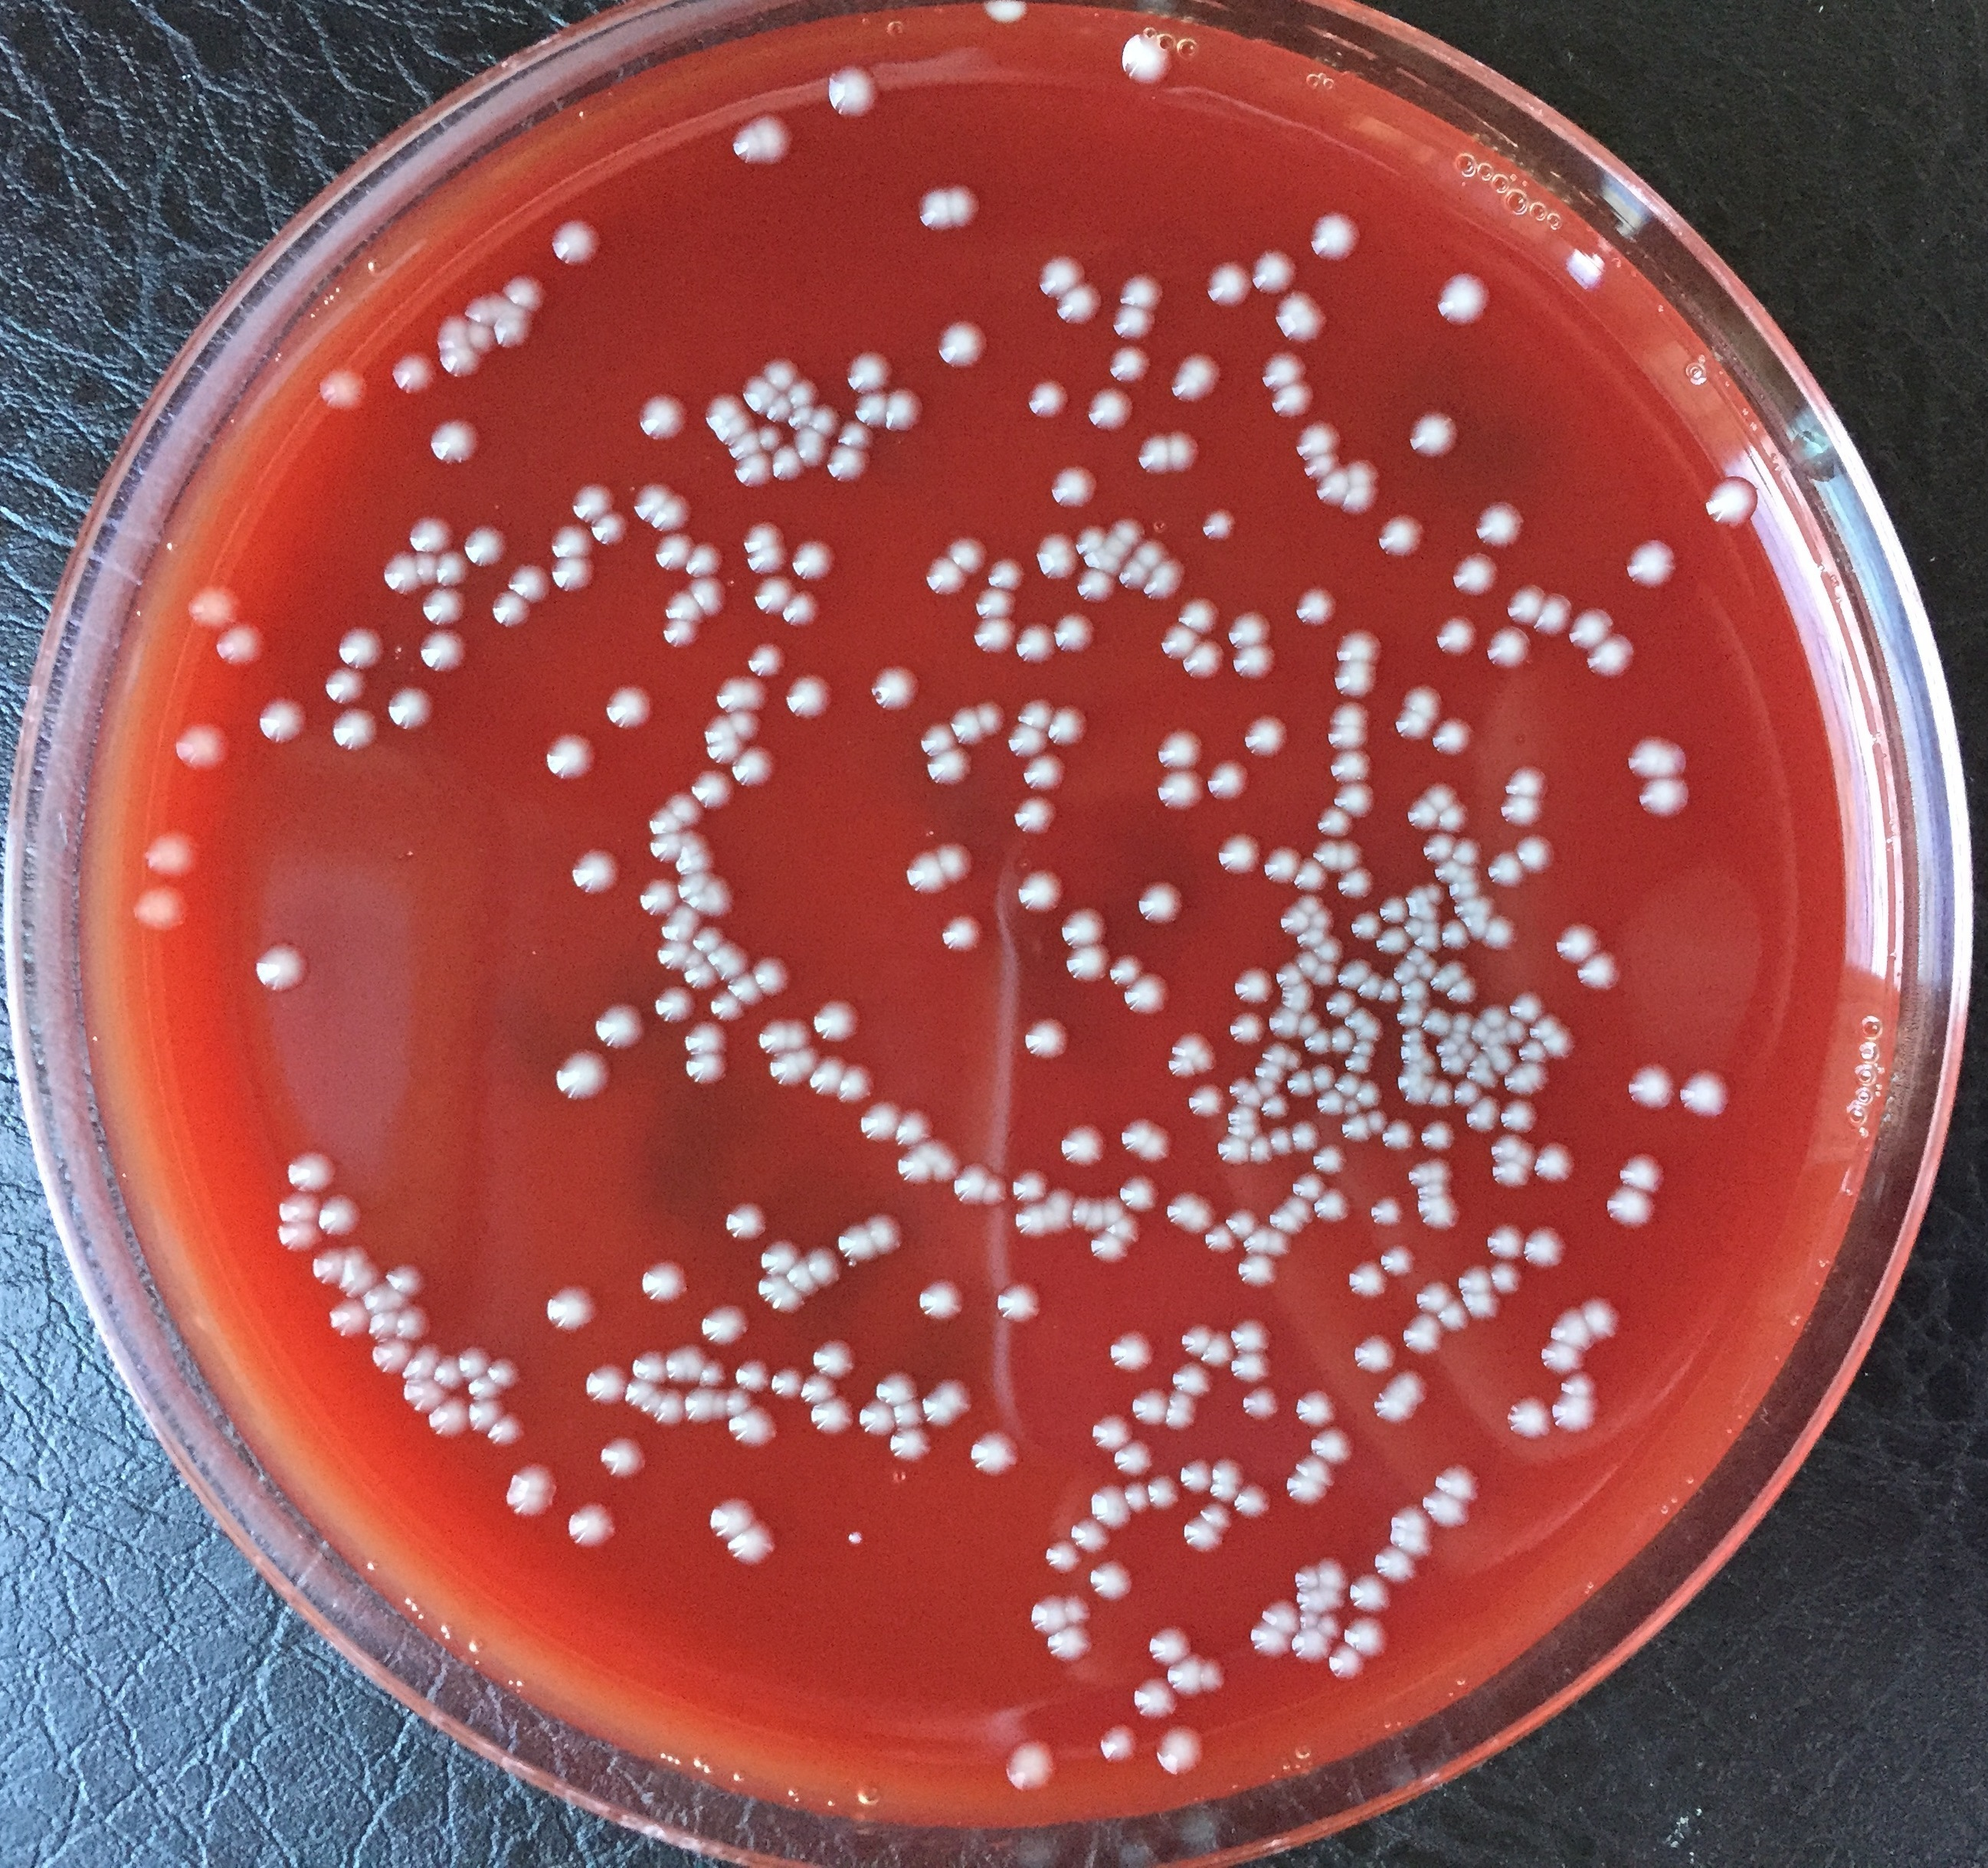sp13: (1033, 527, 1126, 579), (727, 109, 803, 169), (248, 936, 314, 997), (1008, 1166, 1061, 1243), (390, 348, 486, 390), (998, 1735, 1061, 1798), (1700, 471, 1765, 532), (309, 1243, 379, 1299), (499, 1459, 560, 1522), (1430, 270, 1495, 330), (541, 1278, 604, 1336), (1149, 1722, 1214, 1778), (184, 579, 249, 636), (1370, 1369, 1437, 1424), (892, 1136, 966, 1185), (551, 1045, 613, 1103), (1307, 205, 1365, 265), (169, 716, 228, 774), (1120, 28, 1177, 90), (585, 1359, 655, 1408), (140, 827, 204, 881), (1271, 288, 1333, 342), (1621, 537, 1682, 592), (1675, 1069, 1737, 1124), (1163, 355, 1229, 404), (1624, 732, 1691, 781), (425, 416, 485, 471), (824, 63, 880, 119), (595, 999, 650, 1057), (1466, 1017, 1519, 1076), (253, 692, 313, 744), (132, 881, 193, 932), (634, 390, 690, 444), (1199, 258, 1257, 311), (722, 1515, 780, 1568), (695, 1299, 755, 1350), (713, 669, 776, 716), (1161, 1187, 1219, 1238), (546, 218, 606, 267), (1134, 880, 1194, 929), (1184, 1083, 1263, 1120), (920, 1375, 973, 1429), (543, 729, 597, 781), (1050, 279, 1106, 330), (725, 1401, 782, 1452), (1126, 1385, 1199, 1424), (1249, 246, 1303, 297), (1015, 867, 1070, 918), (753, 1269, 808, 1320), (871, 662, 926, 713), (383, 683, 437, 734), (1502, 1392, 1558, 1441), (562, 1499, 618, 1548), (214, 620, 270, 669), (1045, 463, 1103, 511), (1581, 630, 1639, 678), (414, 625, 472, 672), (1115, 1118, 1175, 1164), (938, 318, 990, 369), (639, 1255, 690, 1308), (811, 995, 864, 1046), (569, 844, 622, 895), (785, 672, 836, 725), (462, 521, 513, 574), (337, 620, 388, 672), (1408, 409, 1463, 458), (1375, 511, 1430, 560), (1637, 774, 1691, 823), (915, 1273, 966, 1324), (741, 376, 792, 427), (1626, 1059, 1675, 1111), (1528, 1015, 1581, 1064), (1603, 1185, 1658, 1232), (327, 706, 381, 753), (1036, 251, 1087, 300), (1085, 384, 1136, 434), (1449, 550, 1500, 599), (992, 1278, 1045, 1326), (704, 938, 757, 985), (1549, 1390, 1603, 1436), (968, 1429, 1022, 1475), (808, 1336, 862, 1382), (699, 711, 745, 765), (725, 744, 782, 788), (1261, 1598, 1324, 1636), (1020, 1015, 1070, 1064), (1475, 500, 1526, 548), (1484, 625, 1535, 672), (599, 1433, 650, 1480), (720, 1196, 771, 1243), (1055, 1122, 1108, 1167), (1106, 1327, 1159, 1373), (1166, 1034, 1222, 1076), (1567, 604, 1614, 653), (1206, 757, 1254, 806), (1533, 1141, 1581, 1190), (1547, 1304, 1596, 1352), (904, 848, 952, 897), (286, 1146, 335, 1194), (318, 1192, 367, 1239), (1238, 715, 1289, 760), (1215, 832, 1266, 878), (1614, 1150, 1665, 1196), (1342, 1615, 1393, 1661), (1289, 1564, 1340, 1610), (604, 685, 655, 730), (943, 532, 989, 583), (1047, 613, 1099, 657), (1345, 1571, 1398, 1615), (565, 479, 618, 523), (1394, 1059, 1438, 1111), (381, 546, 423, 600), (843, 351, 899, 392), (1177, 641, 1233, 681), (1041, 1620, 1098, 1661), (1554, 920, 1602, 967), (1129, 1677, 1178, 1722), (1142, 558, 1192, 602), (1156, 769, 1206, 813), (1579, 1292, 1623, 1343), (320, 662, 371, 706), (1477, 1002, 1530, 1045), (314, 367, 367, 409), (1417, 1489, 1473, 1527), (943, 183, 989, 230), (1433, 614, 1480, 660), (1431, 713, 1477, 760), (1085, 1484, 1133, 1529), (662, 1340, 708, 1387), (427, 1394, 474, 1440), (857, 1097, 903, 1145), (690, 767, 738, 813), (1259, 348, 1308, 392), (1122, 973, 1173, 1015), (1372, 1545, 1423, 1587), (1154, 623, 1206, 664), (706, 1498, 759, 1538), (789, 537, 834, 583), (1112, 300, 1159, 344), (1296, 414, 1343, 458), (880, 386, 927, 430), (1231, 964, 1279, 1008), (1010, 795, 1057, 839), (1523, 1224, 1567, 1271), (1087, 1559, 1134, 1603), (1147, 1624, 1194, 1668), (685, 574, 732, 618), (1105, 342, 1154, 384), (862, 1210, 904, 1259), (1229, 641, 1280, 681), (1486, 851, 1537, 892), (1538, 1338, 1589, 1378), (399, 1373, 450, 1413), (404, 513, 455, 553), (1502, 1060, 1556, 1097), (1335, 658, 1380, 702), (1159, 727, 1206, 769), (1329, 778, 1377, 820), (1115, 1171, 1163, 1213), (1351, 1333, 1398, 1375), (1293, 1387, 1340, 1429), (1163, 1650, 1205, 1698), (859, 1396, 906, 1438), (481, 1408, 529, 1450), (836, 1222, 878, 1269), (808, 1052, 850, 1099), (327, 1297, 374, 1340), (1333, 627, 1382, 667), (1064, 945, 1113, 985), (546, 521, 595, 562), (397, 1343, 448, 1382), (1057, 908, 1110, 945), (1505, 585, 1549, 629), (1293, 585, 1336, 629), (1514, 832, 1558, 876), (1047, 702, 1092, 744), (1089, 1412, 1134, 1454), (811, 1394, 857, 1436), (933, 841, 978, 883), (940, 911, 985, 953), (973, 611, 1015, 657), (1270, 379, 1317, 420), (1435, 1461, 1482, 1501), (889, 1422, 936, 1462), (1020, 753, 1070, 792), (1068, 1515, 1117, 1554), (783, 1255, 822, 1304), (550, 553, 599, 592), (1226, 611, 1277, 648), (1027, 379, 1071, 421), (1577, 950, 1621, 992), (1486, 1220, 1530, 1262), (506, 560, 550, 602), (632, 481, 676, 523), (926, 553, 968, 597), (852, 390, 897, 430), (1417, 1192, 1463, 1232), (1345, 1259, 1391, 1299), (1401, 1313, 1447, 1354), (1027, 1594, 1073, 1634), (803, 1243, 843, 1289), (948, 704, 989, 750), (1119, 272, 1166, 311), (1161, 427, 1199, 474), (1535, 590, 1574, 637), (1175, 597, 1222, 636), (683, 1050, 731, 1088), (927, 748, 975, 787), (752, 574, 799, 613), (1240, 1224, 1294, 1257), (1502, 762, 1551, 799), (1387, 1526, 1437, 1563), (1328, 1638, 1370, 1680), (1098, 1722, 1140, 1764), (1496, 1096, 1540, 1136), (1310, 1424, 1354, 1464), (1247, 1619, 1291, 1659), (653, 492, 694, 535), (825, 442, 869, 483), (913, 183, 952, 228), (1196, 506, 1242, 544), (1017, 697, 1062, 736), (1240, 1383, 1286, 1422), (759, 1238, 804, 1276), (683, 1018, 729, 1057), (421, 586, 467, 625), (1019, 618, 1057, 664), (704, 873, 738, 925), (741, 516, 789, 553), (1280, 1471, 1329, 1506), (657, 906, 706, 941), (1480, 913, 1521, 955), (1465, 1096, 1507, 1136), (385, 1261, 427, 1301), (662, 787, 704, 827), (1421, 1004, 1472, 1038), (1403, 1153, 1454, 1187), (1315, 463, 1354, 507), (1400, 683, 1444, 722), (1259, 844, 1303, 883), (1235, 1252, 1279, 1290), (752, 953, 790, 997), (637, 876, 681, 915), (746, 641, 790, 679), (653, 532, 697, 571), (277, 1217, 321, 1255), (371, 1336, 414, 1375), (1073, 565, 1119, 602), (1500, 792, 1545, 829), (918, 722, 964, 758), (488, 592, 534, 629), (360, 1280, 407, 1315), (1291, 1452, 1340, 1485), (1342, 479, 1382, 520), (1117, 557, 1157, 597), (1375, 1241, 1417, 1280), (1112, 1440, 1154, 1478), (799, 1371, 841, 1410), (894, 1106, 936, 1145), (655, 985, 697, 1024), (725, 973, 767, 1011), (1329, 744, 1373, 781), (1329, 955, 1373, 992), (1435, 1296, 1479, 1333), (1228, 1315, 1271, 1352), (395, 1299, 432, 1343), (734, 451, 778, 488), (1459, 1285, 1505, 1320), (1229, 1350, 1275, 1385), (1182, 1519, 1228, 1554), (873, 1369, 918, 1405), (492, 318, 539, 351), (1419, 829, 1459, 867), (1380, 1117, 1421, 1155), (1199, 1327, 1238, 1368), (1231, 1480, 1271, 1519), (836, 1064, 876, 1103), (506, 272, 546, 311), (1289, 857, 1331, 894), (1106, 1213, 1149, 1250), (1041, 1538, 1084, 1575), (1291, 1627, 1333, 1664), (683, 1385, 720, 1427), (465, 1396, 508, 1433), (588, 509, 630, 546), (975, 583, 1017, 620), (1505, 990, 1549, 1025), (1170, 1359, 1214, 1394), (432, 1350, 467, 1394), (954, 1162, 989, 1206), (806, 397, 841, 441), (666, 588, 711, 621), (486, 284, 532, 318), (274, 1192, 325, 1222), (673, 846, 724, 876), (464, 1373, 511, 1405), (745, 544, 792, 576), (971, 699, 1010, 737), (464, 316, 502, 355), (1312, 1185, 1352, 1222), (1222, 1204, 1263, 1241), (1415, 1276, 1456, 1313), (1145, 1471, 1182, 1512), (630, 1347, 671, 1383), (782, 588, 822, 625), (792, 427, 829, 467), (759, 355, 799, 392), (987, 555, 1027, 592), (1134, 432, 1170, 474), (1335, 866, 1377, 901), (1487, 1155, 1530, 1190), (1210, 1132, 1252, 1167), (1312, 1555, 1354, 1591), (413, 544, 448, 586), (1301, 449, 1345, 483), (1389, 709, 1433, 743), (1328, 699, 1373, 730), (1387, 1503, 1433, 1534), (657, 1383, 688, 1429), (1108, 950, 1147, 987), (1419, 1117, 1458, 1153), (1486, 1259, 1523, 1297), (766, 1050, 804, 1087), (727, 706, 764, 744), (704, 390, 743, 427), (767, 444, 804, 483), (1342, 455, 1382, 490), (1336, 1111, 1377, 1146), (1177, 1322, 1217, 1357), (1178, 1455, 1214, 1496), (486, 1352, 527, 1387), (655, 936, 695, 971), (437, 550, 472, 590), (836, 416, 876, 451), (685, 541, 727, 574), (725, 428, 767, 462), (1085, 1232, 1129, 1264), (660, 618, 704, 650), (1322, 723, 1372, 751), (367, 1310, 404, 1347), (1310, 1141, 1349, 1176), (1210, 1454, 1249, 1489), (734, 1357, 773, 1392), (1131, 539, 1171, 572), (1315, 804, 1358, 836), (1287, 1169, 1329, 1201), (645, 804, 687, 836), (1559, 1369, 1603, 1399), (1437, 799, 1472, 836), (1347, 908, 1384, 943), (1266, 1004, 1301, 1041), (890, 1394, 927, 1429), (769, 1364, 804, 1401), (457, 1341, 492, 1378), (1010, 725, 1048, 758), (694, 1355, 727, 1394), (785, 376, 824, 409), (1321, 988, 1361, 1020), (1366, 1194, 1407, 1225), (1405, 799, 1440, 834), (1229, 1011, 1264, 1046), (711, 988, 746, 1024), (648, 827, 683, 862), (1423, 781, 1459, 815), (1375, 922, 1412, 955), (1266, 1203, 1303, 1236), (1310, 839, 1342, 878), (1458, 1262, 1496, 1294), (1196, 1501, 1236, 1531), (1449, 834, 1484, 867), (1438, 918, 1472, 953), (1275, 904, 1310, 938), (1487, 1132, 1523, 1166), (1112, 514, 1149, 546), (1071, 523, 1108, 555), (1279, 981, 1315, 1013), (1289, 1118, 1321, 1155), (1315, 1606, 1347, 1643), (785, 1015, 817, 1052), (692, 923, 729, 955), (457, 286, 488, 323), (1199, 1656, 1229, 1694), (681, 960, 720, 990), (436, 309, 465, 348), (1205, 1478, 1245, 1506), (1442, 876, 1487, 901), (1310, 932, 1345, 964), (1449, 1078, 1484, 1110), (1356, 1074, 1387, 1110), (1375, 894, 1412, 923), (1444, 976, 1480, 1006), (760, 1018, 790, 1055), (980, 1173, 1010, 1210), (785, 402, 815, 439), (1015, 1204, 1045, 1241), (1099, 535, 1138, 564), (1221, 1115, 1264, 1139), (1335, 839, 1366, 873), (1284, 1069, 1317, 1101), (1061, 1592, 1094, 1624), (1205, 1224, 1240, 1254), (1120, 1480, 1150, 1515), (1410, 1178, 1452, 1203), (1354, 1013, 1393, 1039), (1054, 1182, 1073, 1234), (724, 1387, 755, 1419), (1282, 1190, 1315, 1220), (1403, 915, 1444, 939), (715, 414, 755, 439), (1273, 960, 1308, 988), (1257, 1092, 1294, 1118), (1394, 1002, 1431, 1029), (673, 871, 709, 897), (1400, 976, 1431, 1006), (1245, 1134, 1275, 1166), (1293, 946, 1319, 981), (1517, 1038, 1552, 1064), (1414, 955, 1444, 985), (1293, 1009, 1322, 1039), (755, 421, 785, 451), (1389, 957, 1421, 985), (1293, 890, 1324, 918), (1308, 959, 1340, 987), (1356, 973, 1387, 1001), (1310, 1060, 1338, 1092), (1264, 1124, 1293, 1155), (1431, 1074, 1454, 1113), (1430, 857, 1463, 883), (1314, 1090, 1347, 1117), (678, 829, 711, 855), (1410, 934, 1444, 960), (1087, 1197, 1112, 1232), (1465, 1066, 1502, 1088), (1328, 1025, 1356, 1055), (1333, 1071, 1365, 1097), (1166, 1405, 1198, 1431), (1379, 973, 1403, 1006), (1293, 925, 1328, 948), (676, 888, 711, 911), (1342, 1052, 1373, 1076), (1252, 1060, 1286, 1083), (1070, 1190, 1089, 1229), (1307, 908, 1335, 934), (1398, 1039, 1433, 1060), (1363, 1106, 1387, 1136), (1396, 1025, 1433, 1045), (843, 1524, 869, 1550), (1472, 913, 1495, 943), (1408, 890, 1438, 913), (1345, 1004, 1377, 1025), (1423, 880, 1447, 906), (1452, 894, 1477, 920), (1438, 1055, 1472, 1074), (1228, 1071, 1250, 1099), (1303, 1027, 1328, 1052), (1433, 960, 1447, 1001), (1405, 943, 1431, 964), (1354, 1038, 1380, 1059), (1445, 960, 1472, 981), (1475, 895, 1503, 915), (1340, 1096, 1365, 1117), (1431, 1039, 1458, 1059), (1264, 1045, 1287, 1064), (1240, 1087, 1263, 1106), (1489, 1022, 1507, 1046), (1466, 1052, 1489, 1069), (643, 1399, 662, 1419), (1284, 1048, 1303, 1066), (1458, 1045, 1480, 1059), (1257, 1081, 1286, 1092), (1421, 1060, 1442, 1074), (1452, 1032, 1466, 1046)
